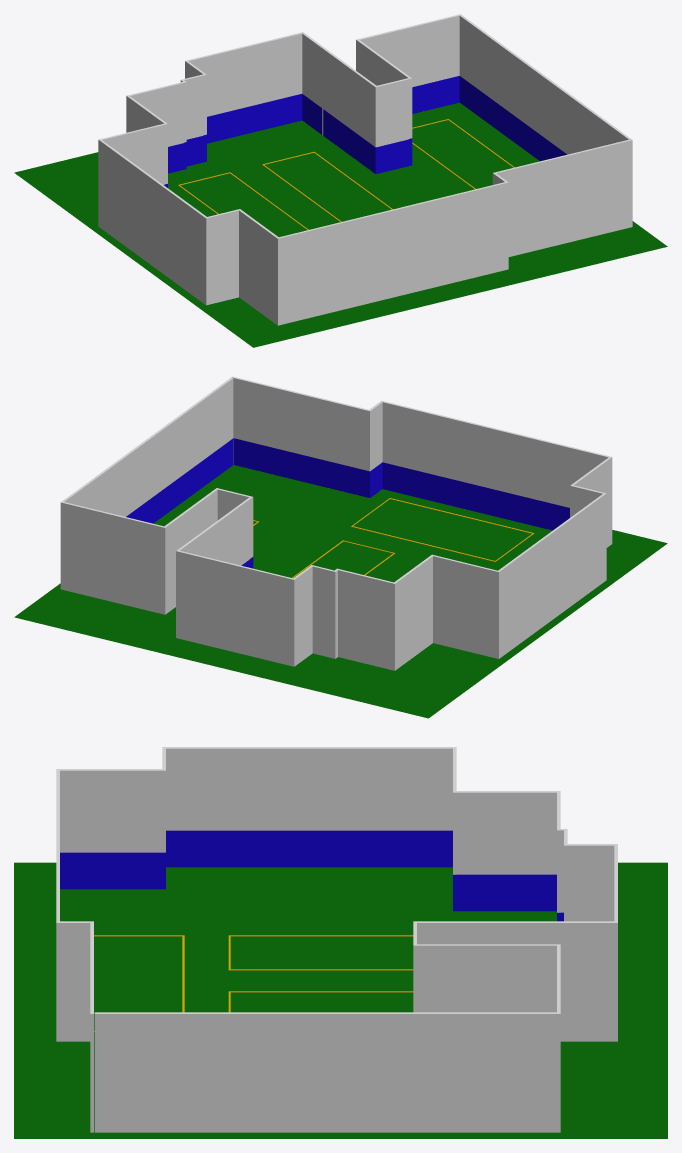
The model's file is floorV2.glb.
3 renders of one model, top to bottom at view 1: azimuth 30°, elevation 25°; view 2: azimuth 150°, elevation 25°; view 3: azimuth 270°, elevation 25°, orthographic. The views are drawn at different scales.
Visible parts, largest first — view 1: Cube, Plane; view 2: Cube, Plane, Cube.004; view 3: Cube, Plane, Cube.002.
Boxes of the visible parts, x1=… form: Cube: x1=98, y1=14, x2=632, y2=325; Plane: x1=14, y1=102, x2=667, y2=347; Cube: x1=60, y1=376, x2=612, y2=670; Plane: x1=14, y1=465, x2=667, y2=718; Cube.004: x1=351, y1=498, x2=534, y2=561; Cube: x1=56, y1=747, x2=617, y2=1132; Plane: x1=14, y1=862, x2=667, y2=1138; Cube.002: x1=228, y1=935, x2=413, y2=970.
Size of the model in its own units: 36.45 by 7.43 by 36.45.
